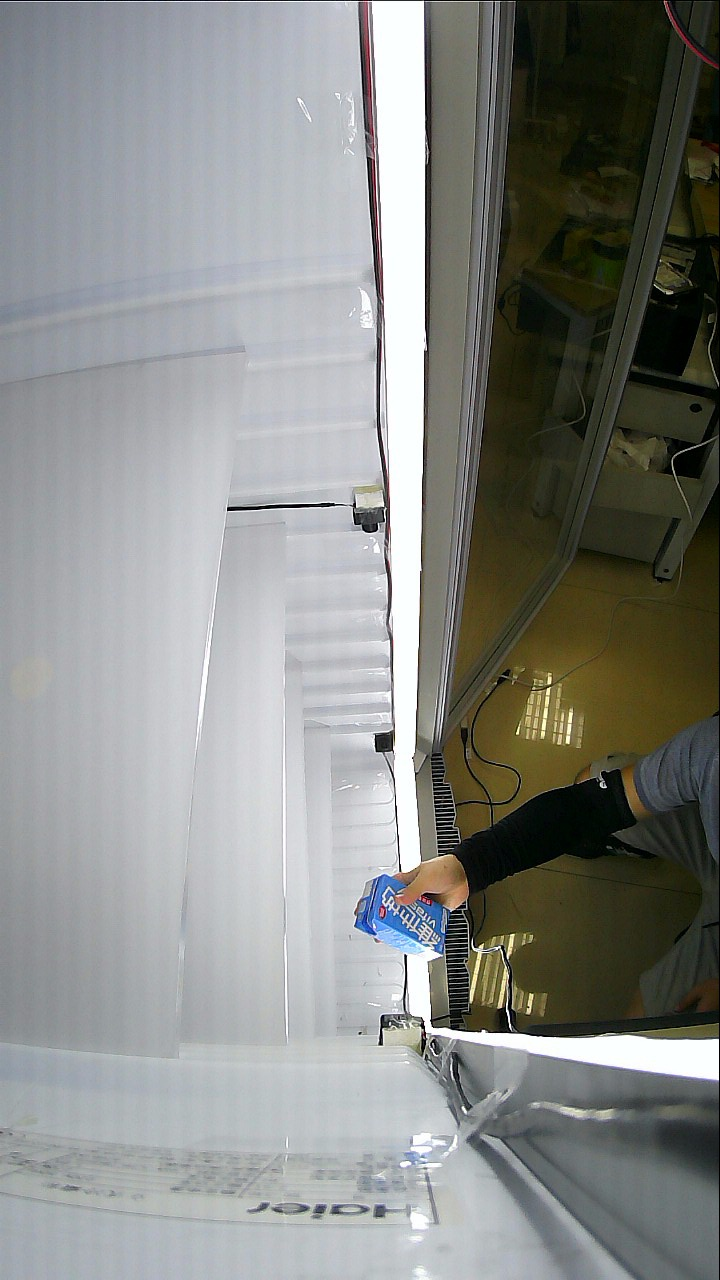VitaSoyOriginal: (359, 843, 478, 961)
